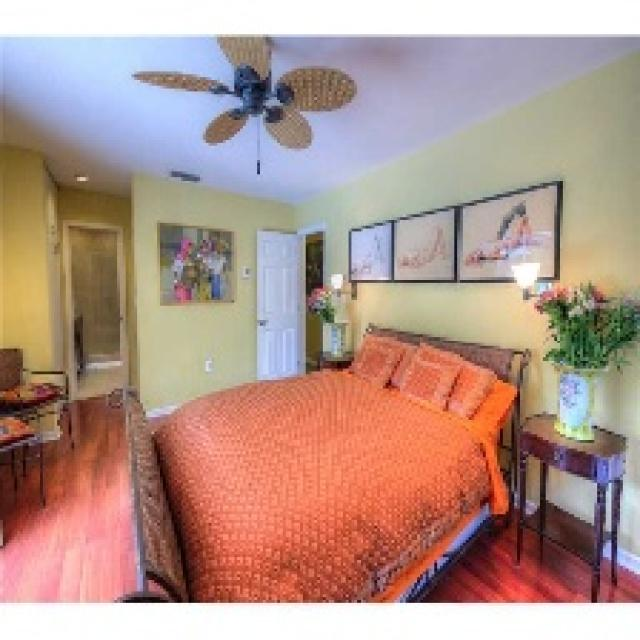Bed: (120, 320, 529, 603)
